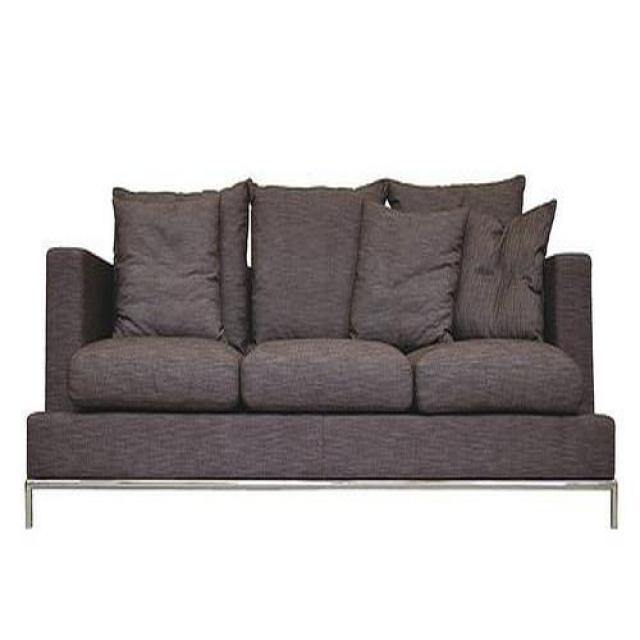sofa: (26, 178, 617, 494)
